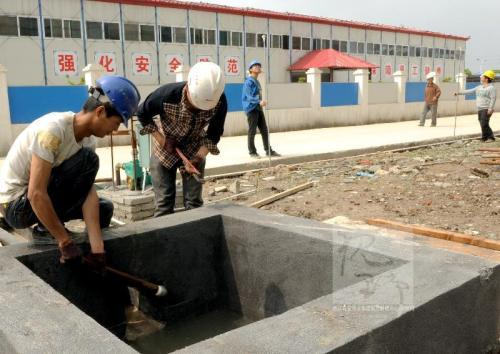helmet: (86, 73, 145, 139), (185, 61, 227, 115), (481, 69, 498, 89), (247, 58, 263, 79)
